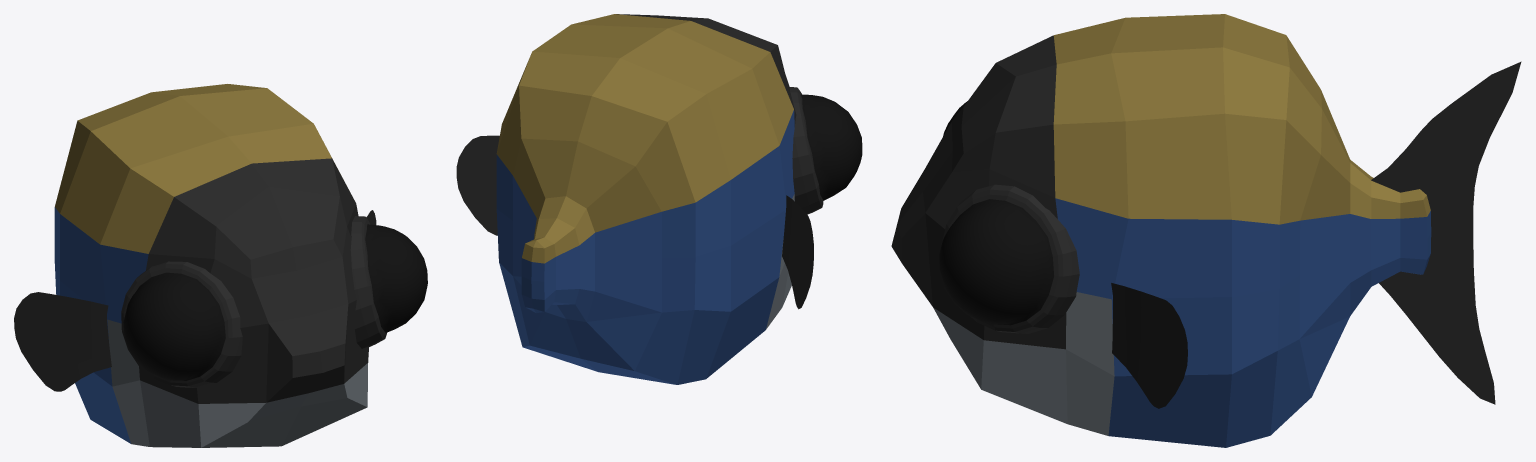
Rendered from Tang.glb.
3 renders of one model, left to right at view 1: azimuth 30°, elevation 25°; view 2: azimuth 150°, elevation 25°; view 3: azimuth 270°, elevation 25°, orthographic. The views are drawn at different scales.
Parts seen in each view (by area): view 1: Tang; view 2: Tang; view 3: Tang.
Part boxes in pixels (bbox=[...]): Tang: bbox=[14, 84, 427, 447]; Tang: bbox=[456, 14, 862, 384]; Tang: bbox=[891, 14, 1521, 447].
Size of the model in its own units: 0.3574 by 0.2956 by 0.4648.
